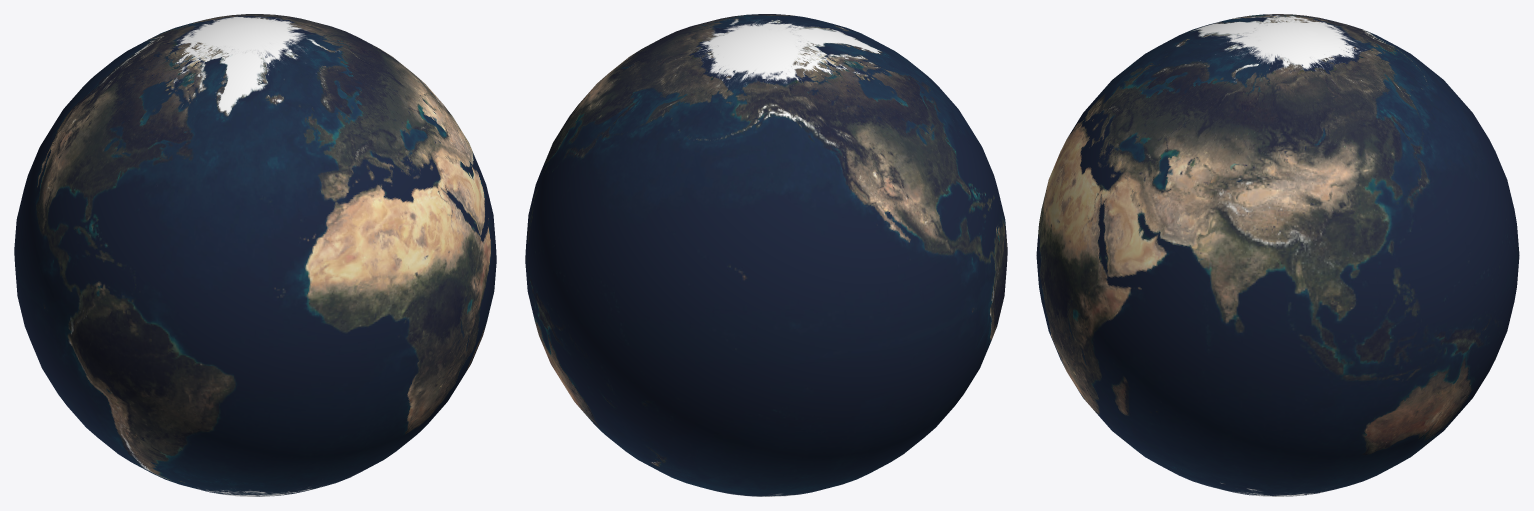
Rendered from Earth Planet.DAE.
3 renders of one model, left to right at view 1: azimuth 30°, elevation 25°; view 2: azimuth 150°, elevation 25°; view 3: azimuth 270°, elevation 25°, orthographic.
Parts seen in each view (by area): view 1: Clouds; view 2: Clouds; view 3: Clouds.
Part boxes in pixels (bbox=[...]): Clouds: bbox=[14, 14, 496, 496]; Clouds: bbox=[525, 14, 1007, 496]; Clouds: bbox=[1036, 14, 1519, 496].
Bounding box in the file's own units: 162 × 162 × 162.
2 materials, 2 textured.
